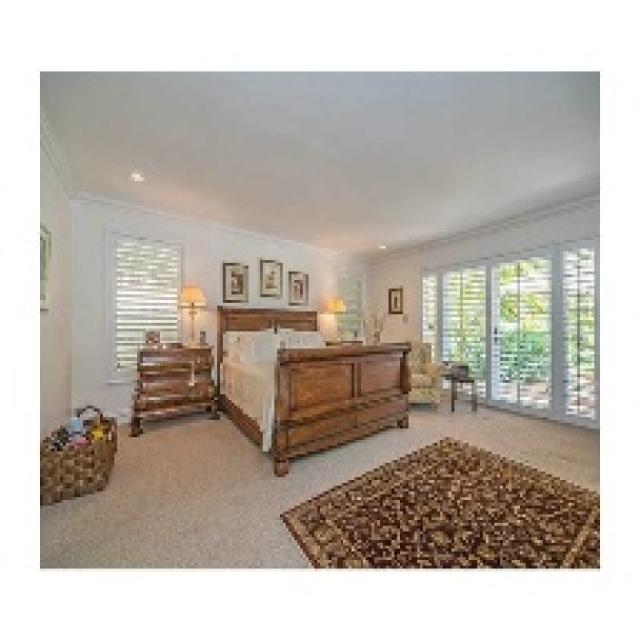Bed: (215, 303, 412, 474)
lamp: (183, 284, 204, 343)
